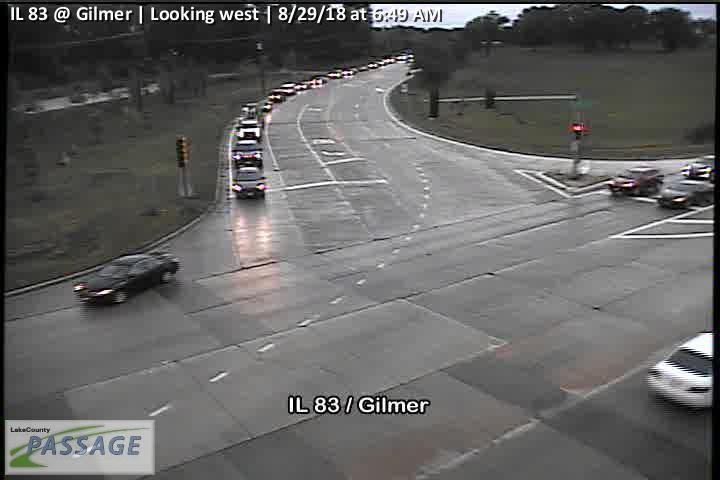SUV: (610, 166, 662, 195), (232, 166, 266, 199), (231, 139, 264, 168), (237, 118, 263, 142)
Sedan: (73, 250, 180, 304), (647, 332, 713, 409), (658, 180, 713, 209), (680, 155, 714, 180)
